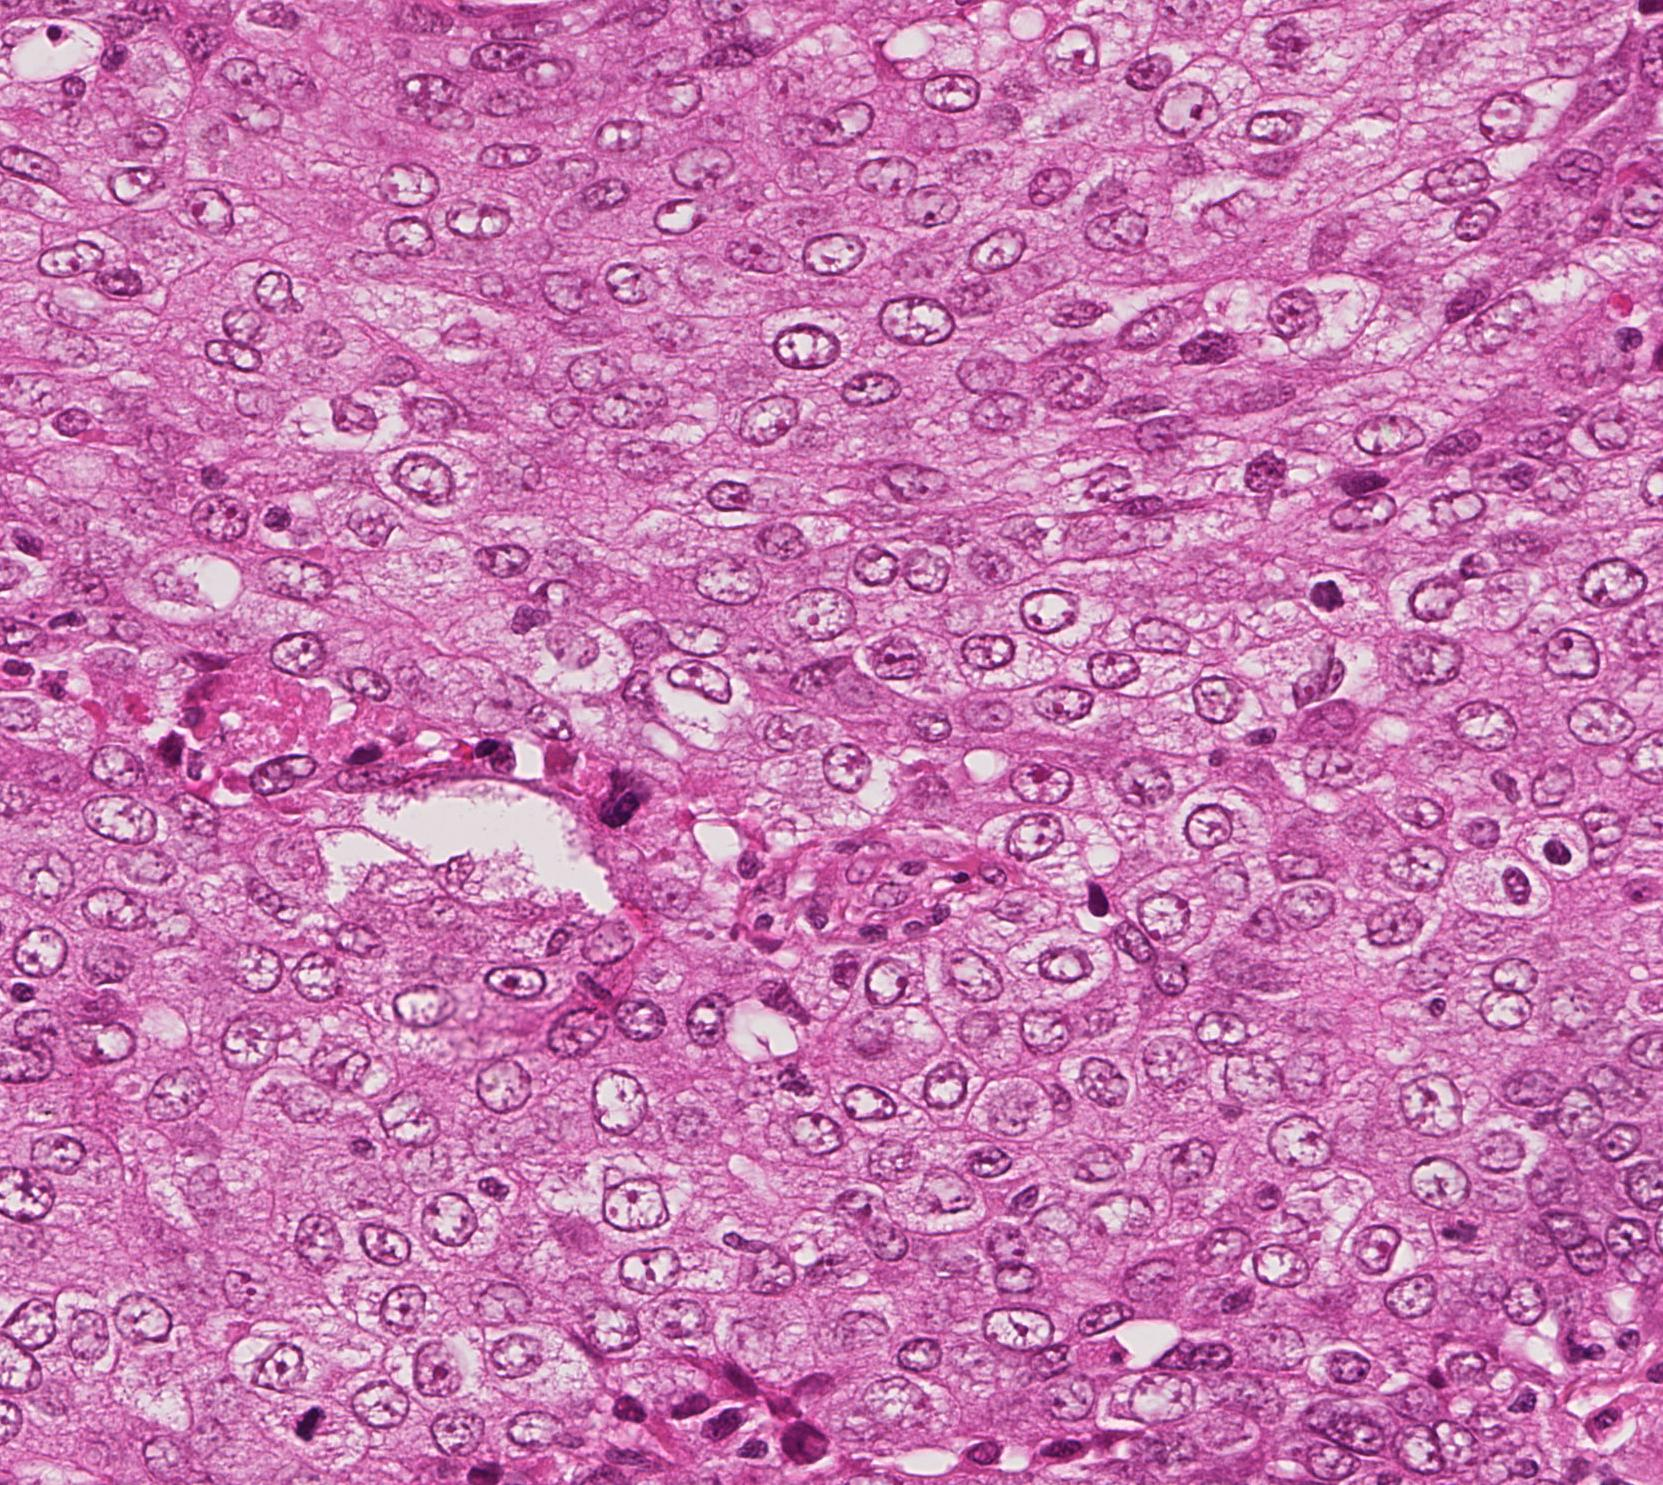mitosis: (282, 1390, 343, 1451), (1429, 1204, 1490, 1264), (1292, 562, 1350, 622)
